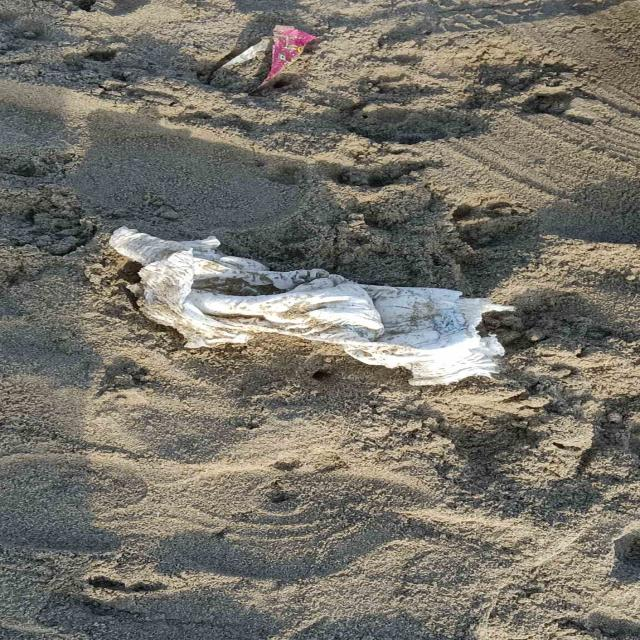other: (108, 227, 509, 386)
